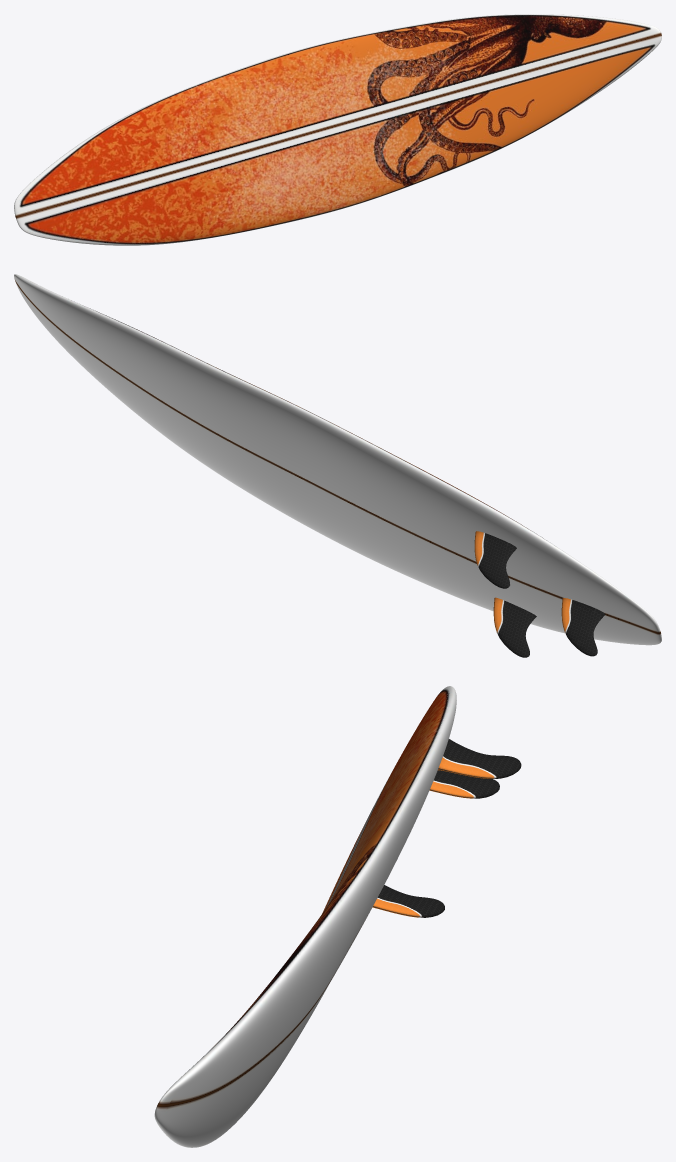
File: surf.glb
3 renders of one model, top to bottom at view 1: azimuth 30°, elevation 25°; view 2: azimuth 150°, elevation 25°; view 3: azimuth 270°, elevation 25°, orthographic. The views are drawn at different scales.
Parts seen in each view (by area): view 1: Prancha; view 2: Prancha, Cube, Cube.001, Cube.002; view 3: Prancha, Cube.002, Cube.001, Cube.
Part boxes in pixels (box(x1,y1,x2,y2)): Prancha: box(14, 14, 661, 245); Prancha: box(14, 274, 661, 645); Cube: box(561, 598, 605, 656); Cube.001: box(493, 597, 536, 657); Cube.002: box(474, 531, 516, 588); Prancha: box(154, 686, 456, 1147); Cube.002: box(438, 739, 521, 778); Cube.001: box(372, 885, 444, 917); Cube: box(429, 770, 499, 798).
Bounding box in the file's own units: 4.69 × 1.2 × 1.29.
2 materials, 2 textured.
